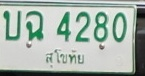txt07: (23, 9, 45, 41)
txt21: (2, 9, 21, 41)
